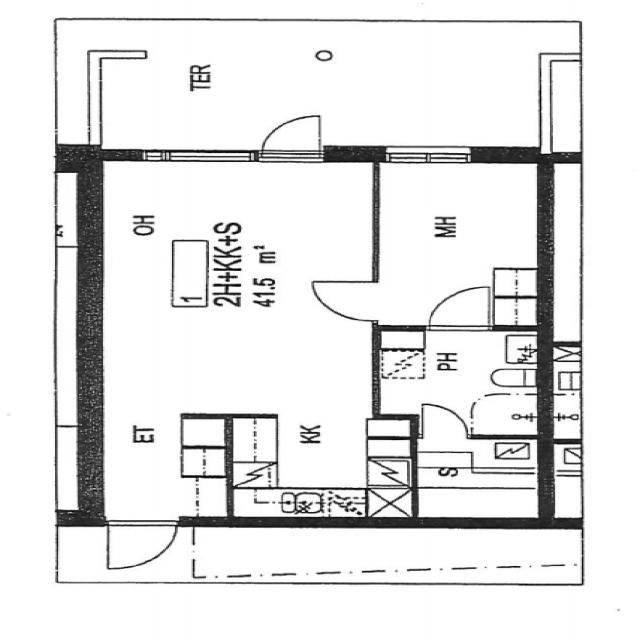door: (99, 517, 185, 574), (252, 109, 334, 161), (421, 282, 500, 333), (304, 274, 382, 323), (413, 399, 477, 438)
window: (374, 140, 484, 168), (136, 148, 260, 170), (47, 173, 71, 245)
zone: (82, 170, 371, 432), (367, 158, 543, 328), (376, 328, 547, 432), (415, 436, 544, 492)
